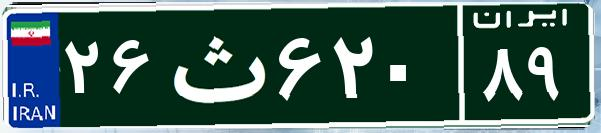0: (385, 28, 445, 110)
2: (330, 28, 385, 110), (57, 26, 110, 107)
6: (273, 28, 330, 110), (110, 28, 158, 105)
8: (475, 38, 525, 113)
9: (525, 38, 570, 115)
ث: (158, 15, 273, 115)
